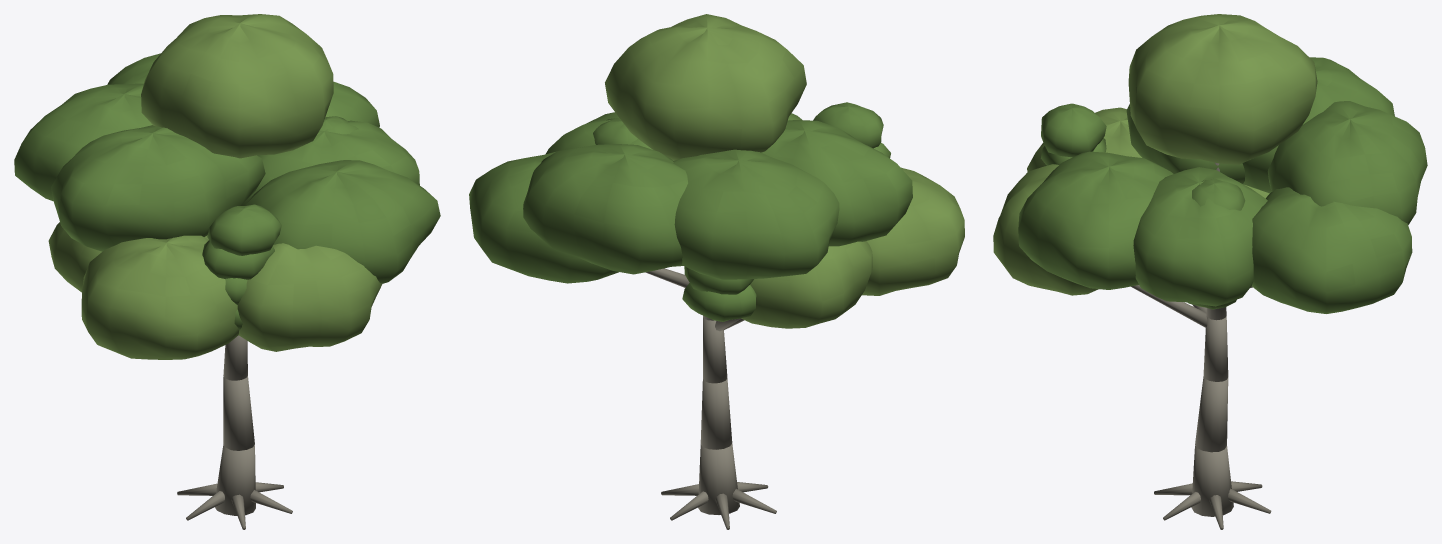
Rendered from beech_canopy_2.glb.
The picture shows the model from 3 angles, left to right: view 1: azimuth 30°, elevation 25°; view 2: azimuth 150°, elevation 25°; view 3: azimuth 270°, elevation 25°; orthographic projection.
Visible parts, largest first — view 1: beech_canopy_2_painted_export; view 2: beech_canopy_2_painted_export; view 3: beech_canopy_2_painted_export.
Part boxes in pixels (<box>): beech_canopy_2_painted_export: <box>14,14,440,529</box>; beech_canopy_2_painted_export: <box>469,14,964,529</box>; beech_canopy_2_painted_export: <box>993,14,1427,529</box>.
Size of the model in its own units: 13.87 by 16.43 by 13.27.
